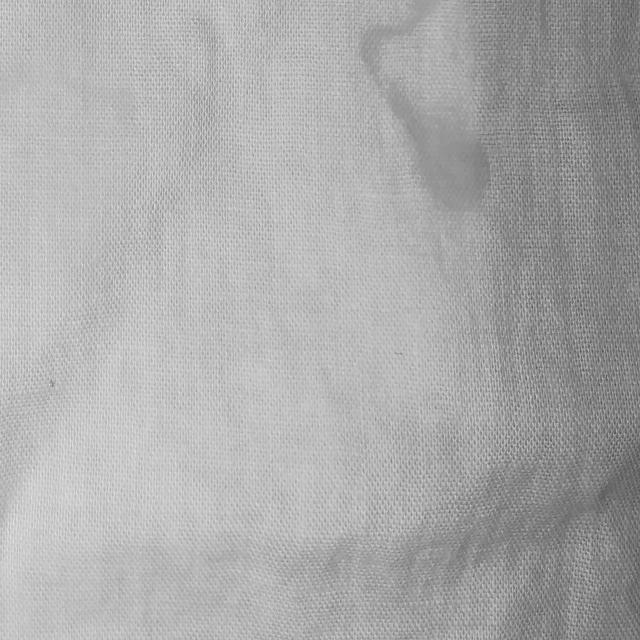Stain: (359, 0, 493, 211)
